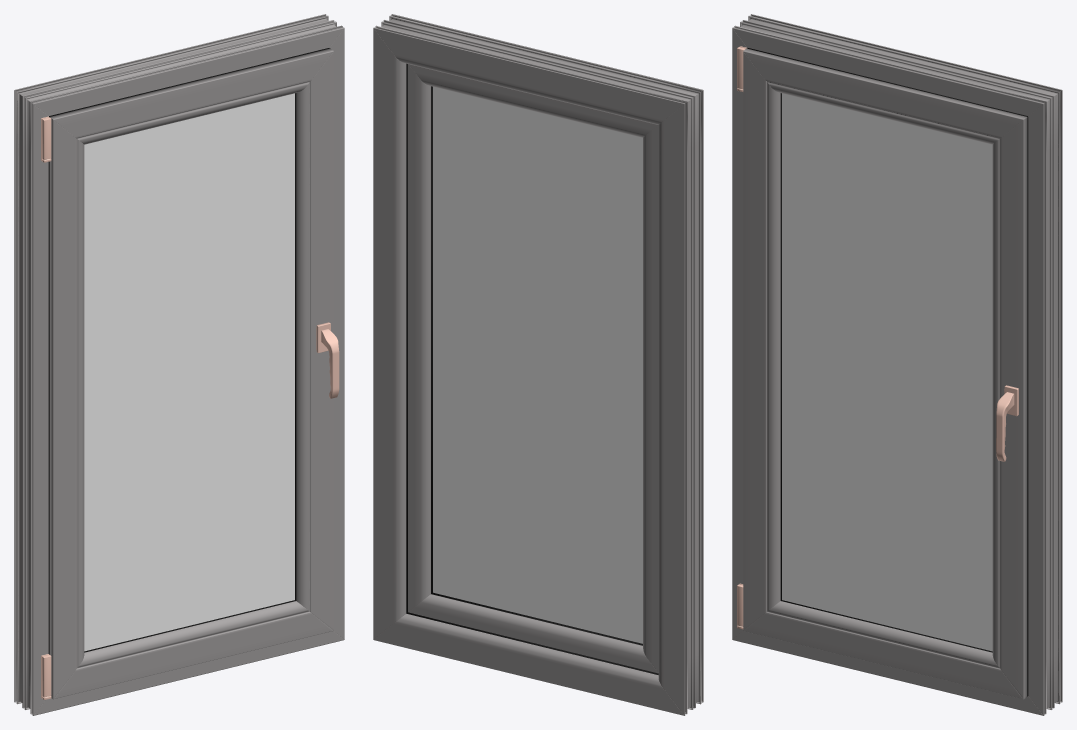
File: wiindow.gltf
The picture shows the model from 3 angles, left to right: view 1: azimuth 30°, elevation 25°; view 2: azimuth 150°, elevation 25°; view 3: azimuth 330°, elevation 25°; orthographic projection.
Parts seen in each view (by area): view 1: Cube.008, Cube.010, Plane.004, Cube.011; view 2: Cube.008, Cube.010; view 3: Cube.008, Cube.010, Plane.004, Cube.011.
Boxes of the visible parts, x1,y1,x2,y2 form: Cube.008: [84, 93, 294, 651]; Cube.010: [14, 14, 344, 715]; Plane.004: [316, 322, 339, 398]; Cube.011: [41, 116, 51, 699]; Cube.008: [433, 86, 642, 643]; Cube.010: [373, 14, 703, 715]; Cube.008: [782, 93, 992, 651]; Cube.010: [732, 14, 1062, 715]; Plane.004: [996, 385, 1018, 461]; Cube.011: [737, 46, 746, 629].
Size of the model in its own units: 0.853 by 1.6 by 0.1745.
8 materials, 2 textured.
